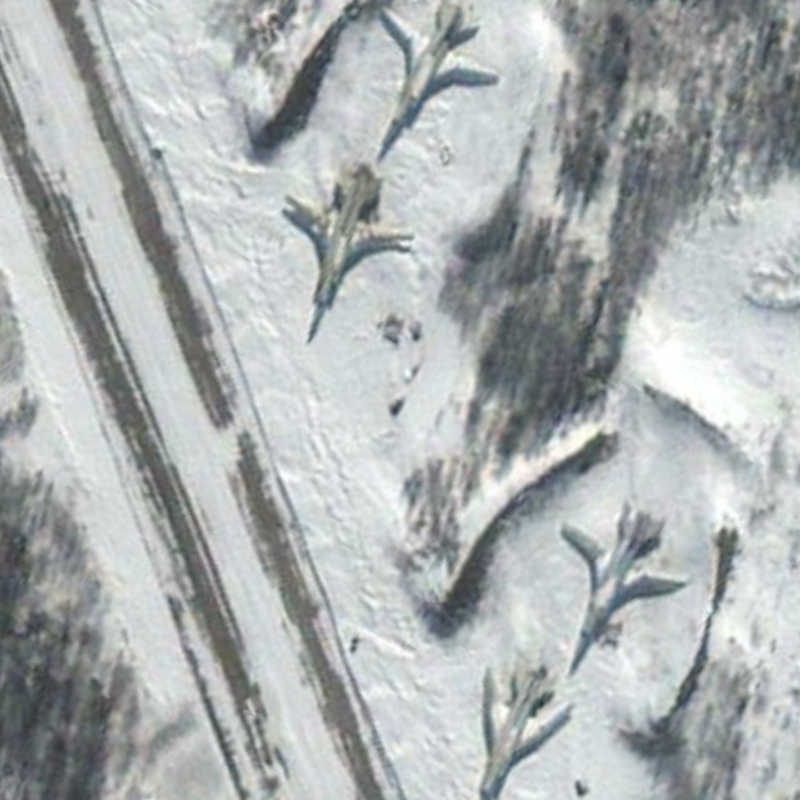A12: (278, 158, 418, 345), (560, 497, 689, 677), (369, 1, 502, 161), (475, 662, 579, 800)
